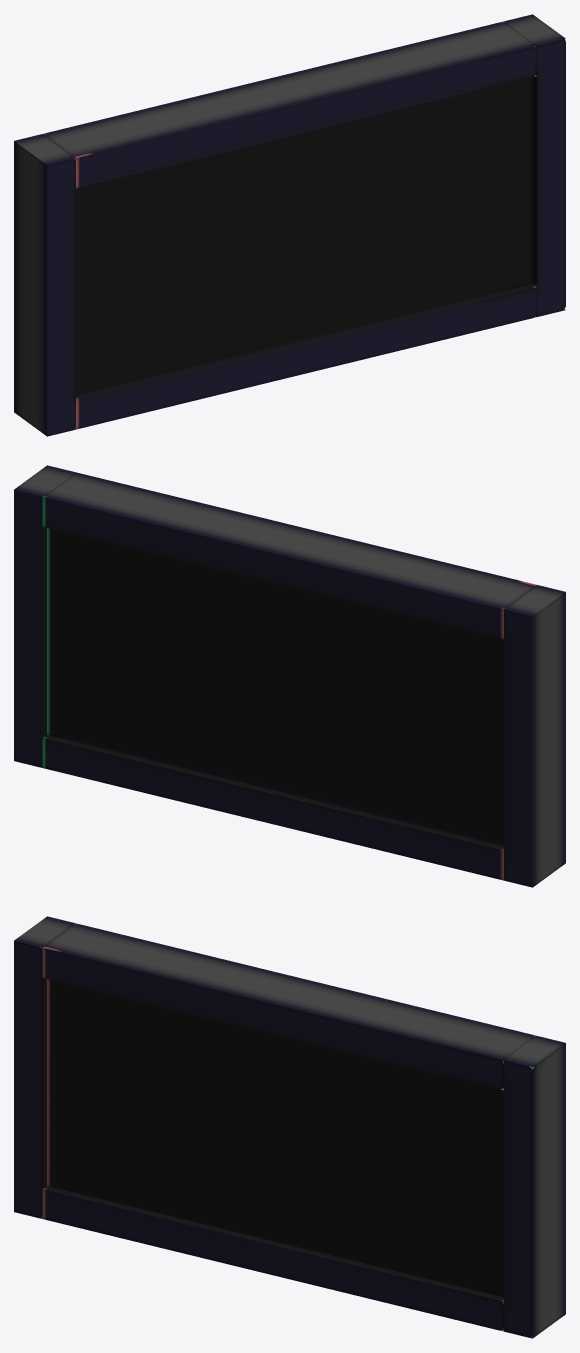
File: db_multi.obj
3 views of the same model, one above another, from view 1: azimuth 30°, elevation 25°; view 2: azimuth 150°, elevation 25°; view 3: azimuth 330°, elevation 25° (orthographic).
Visible parts, largest first — view 1: cube; view 2: cube; view 3: cube.
Boxes of the visible parts, bbox=[...] form: cube: bbox=[14, 14, 565, 436]; cube: bbox=[14, 465, 565, 887]; cube: bbox=[14, 916, 565, 1338].
Size of the model in its own units: 2.25 by 1.12 by 0.25.
1 material, 1 textured.
